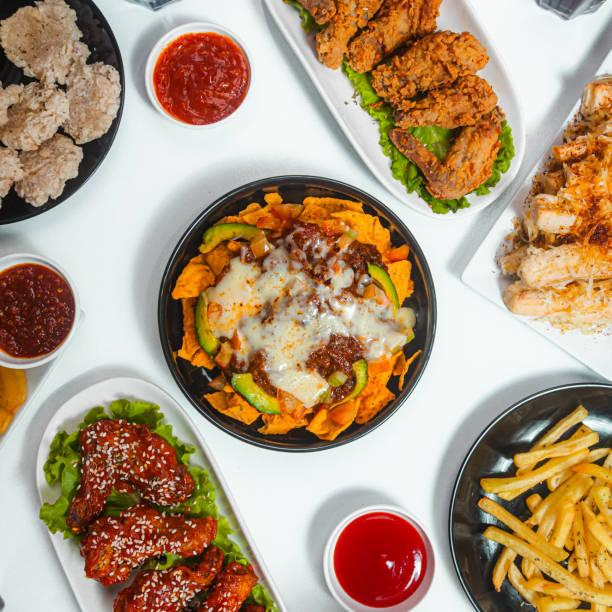Braised Crucian Carp: (157, 175, 431, 448), (32, 373, 295, 609), (254, 0, 521, 221), (457, 70, 610, 386), (445, 384, 611, 609), (1, 0, 126, 223)
